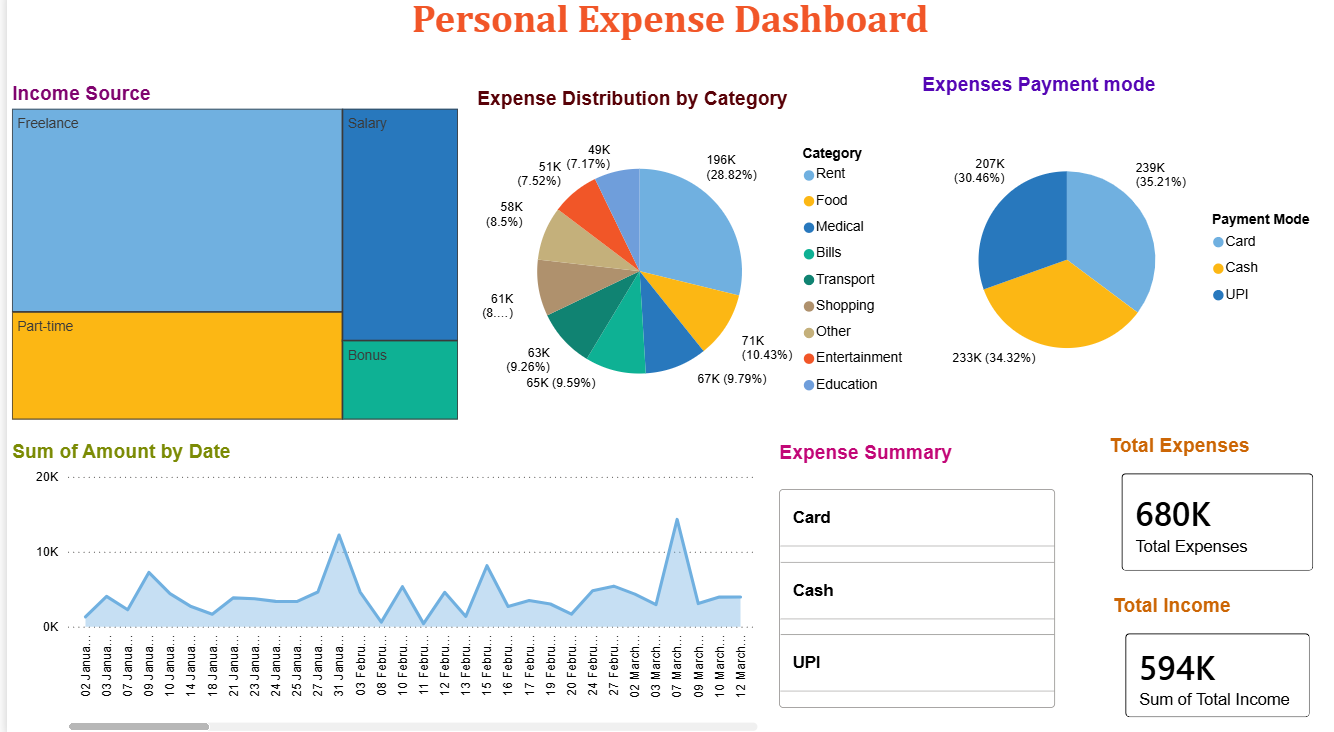

What the dashboard file says about the page in this screenshot:
{"tool":"powerbi","page":{"name":"Page 1","canvas":[1280,720],"ordinal":0},"visuals":[{"type":"cardVisual","title":"Total  Expenses","fields":{"Data":["Expenses.Total Expenses"]},"box":[1058.2,427,221.8,151.7],"z":0},{"type":"pieChart","title":"Expense Distribution by Category","fields":{"Category":["Expenses.Category"],"Y":["Sum(Expenses.Amount)"]},"box":[448.4,92.4,429.9,334.6],"z":1000},{"type":"areaChart","fields":{"Y":["Sum(Expenses.Amount)"],"Category":["Expenses.Date"]},"box":[0,434.8,729.5,285],"z":2000},{"type":"pieChart","title":"Expenses  Payment mode ","fields":{"Category":["Expenses.Payment Mode"],"Y":["Sum(Expenses.Amount)"]},"box":[878.3,79.6,401.7,339],"z":3000},{"type":"cardVisual","title":"Total Income ","fields":{"Data":["Sum(Income.Income)"]},"box":[1061.2,581.6,215,138.1],"z":5000},{"type":"cardVisual","title":"Expense Summary","fields":{"Rows":["Expenses.Payment Mode"],"Data":["Min(Expenses.Category)","Sum(Expenses.Amount)"]},"box":[739.2,434.8,278.2,285],"z":6000},{"type":"treemap","title":"Income  Source ","fields":{"Group":["Income.Income Source"],"Values":["Sum(Income.Total  Income)"]},"box":[0,88.1,440.4,330.6],"z":7000},{"type":"textbox","box":[0,0,1280,70],"z":8000}]}

Visuals, with their boxes in screenshot pixels (x1, y1, x2, y2), scaled from the page's 1280x720 canvas onto the 1334x732 screenshot:
"Total  Expenses" cardVisual: [x1=1103, y1=434, x2=1333, y2=588]
"Expense Distribution by Category" pieChart: [x1=467, y1=94, x2=915, y2=434]
areaChart - Sum(Expenses.Amount) x Expenses.Date: [x1=0, y1=442, x2=760, y2=731]
"Expenses  Payment mode " pieChart: [x1=915, y1=81, x2=1333, y2=426]
"Total Income " cardVisual: [x1=1106, y1=591, x2=1330, y2=731]
"Expense Summary" cardVisual: [x1=770, y1=442, x2=1060, y2=731]
"Income  Source " treemap: [x1=0, y1=90, x2=459, y2=426]
textbox: [x1=0, y1=0, x2=1333, y2=71]
